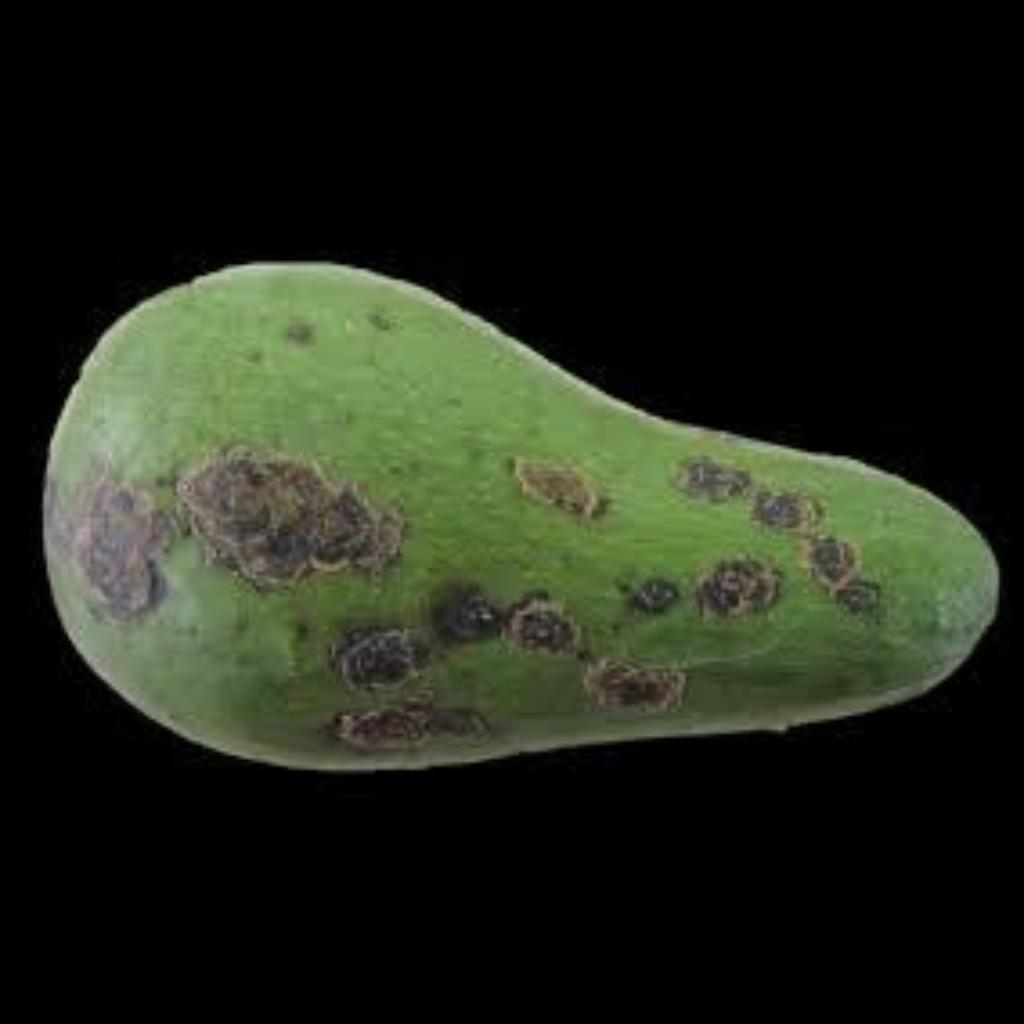cercospora_spot: (83, 440, 883, 754)
